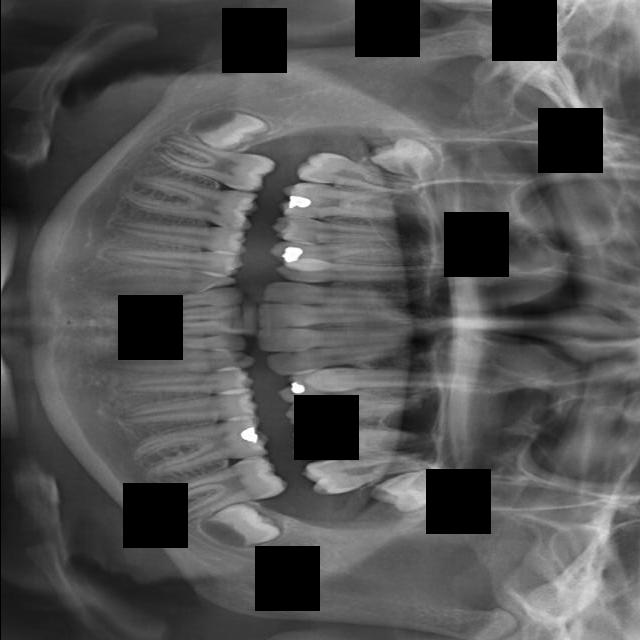3M ESPE Implant: (364, 133, 443, 180)
AGS Medikal Implant: (263, 333, 418, 379)
AMerOss Implant: (307, 364, 498, 395)
Amalgam filling: (274, 368, 431, 402)
Anthogyr Implant: (279, 383, 425, 429)
Bicon Implant: (287, 416, 428, 462)
BioHorizons Implant: (298, 446, 436, 499)
BioLife Implant: (364, 455, 463, 526)
Biomet 3i Implant: (197, 491, 287, 567)
Blue Sky Bio Implant: (151, 448, 293, 531)
Camlog Implant: (126, 410, 275, 485)
Caries: (292, 148, 424, 196)
Composite filling: (114, 389, 264, 428)
Cowellmedi Implant: (113, 374, 256, 396)
Crown: (86, 351, 257, 374)
DENTSPLY Implant: (117, 336, 247, 351)
Dentatus Implant: (127, 321, 244, 338)
Dentis Implant: (110, 302, 245, 334)
Dentium Implant: (105, 284, 247, 318)
Euroteknika Implant: (78, 267, 241, 293)
Filling: (97, 242, 247, 274)
Frontier Implant: (104, 207, 253, 259)
Hiossen Implant: (276, 180, 401, 224)
Implant: (202, 161, 203, 161)
Implant Direct: (117, 170, 262, 233)
Keystone Dental Implant: (189, 108, 271, 151)
MIS Implant: (268, 216, 421, 248)
Mandible: (267, 240, 394, 264)
Maxilla: (272, 260, 495, 283)
Megagen Implant: (258, 280, 427, 309)
Neodent Implant: (254, 303, 425, 331)
Neoss Implant: (253, 326, 427, 354)
